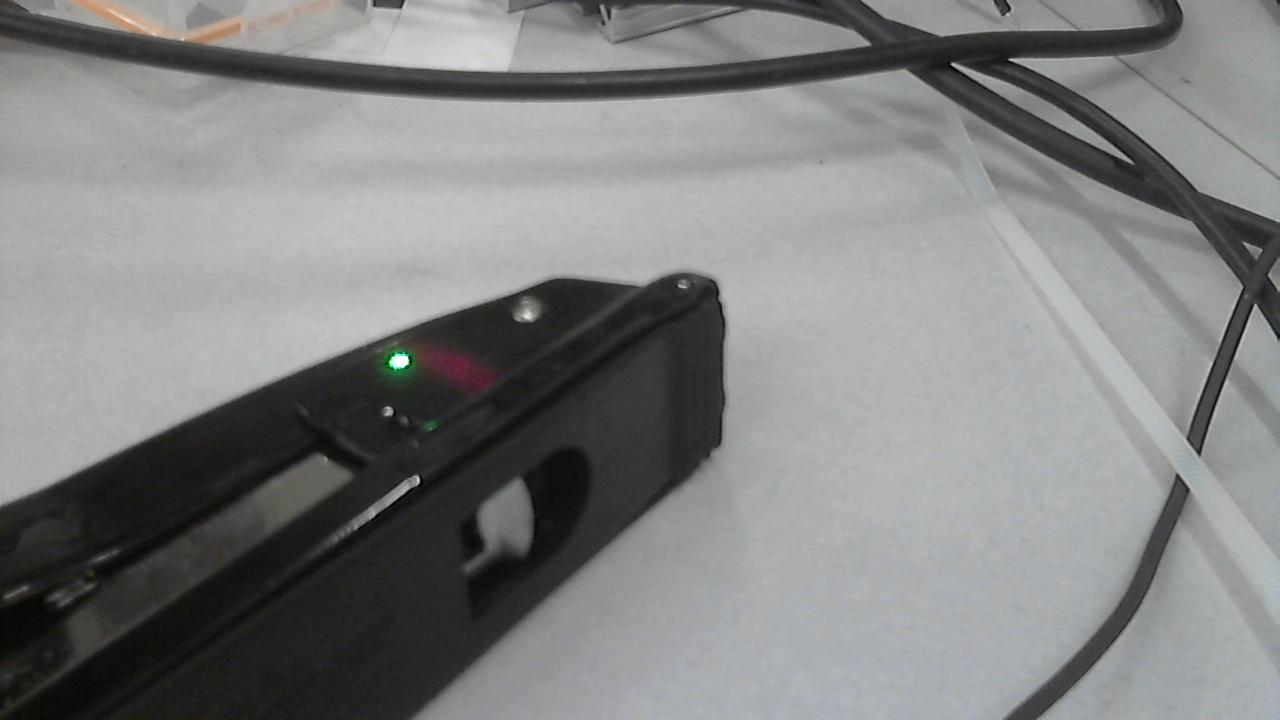object stapler - material metal - color black - Pdfname fduiadew: (379, 332, 514, 397)
